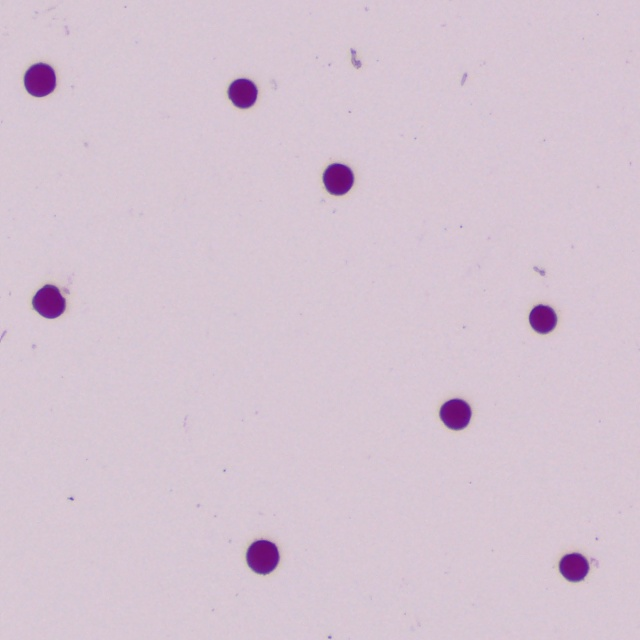viable: (247, 541, 279, 574), (33, 285, 65, 318), (25, 63, 55, 96), (323, 164, 353, 195), (441, 399, 471, 429), (229, 79, 257, 107), (560, 554, 588, 581), (530, 305, 556, 333)
